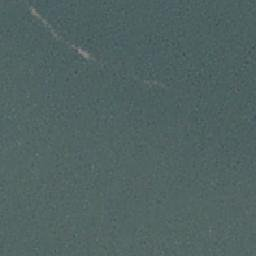debris: (71, 46, 92, 58), (30, 7, 45, 21)
